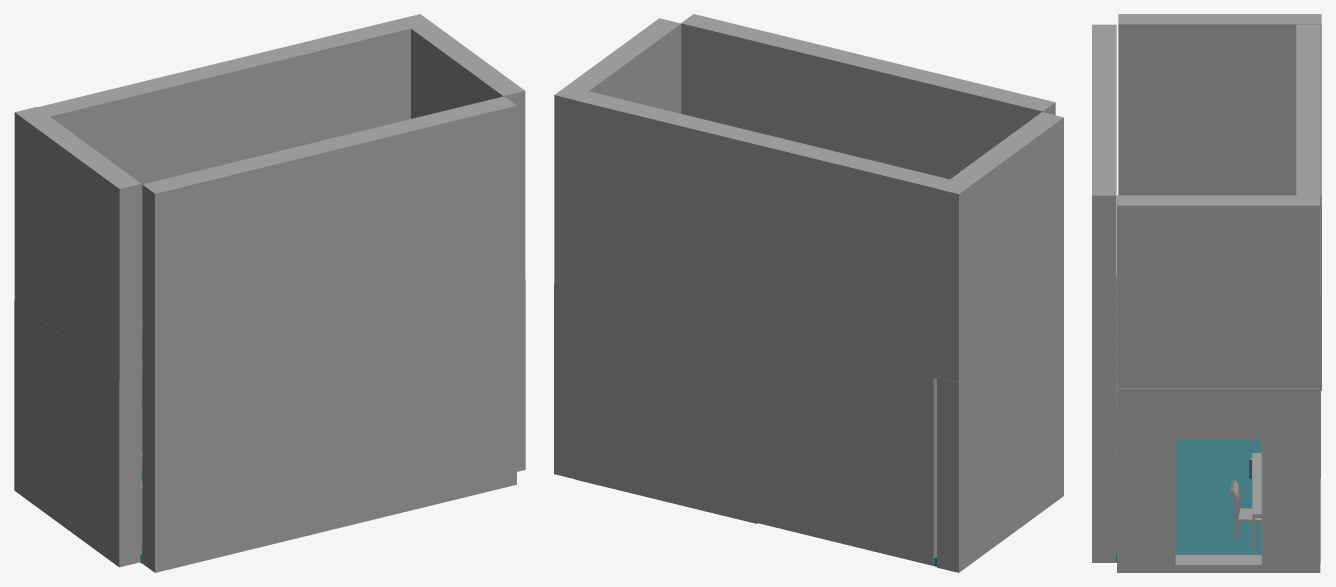
File: OptionsScene.fbx
3 renders of one model, left to right at view 1: azimuth 30°, elevation 25°; view 2: azimuth 150°, elevation 25°; view 3: azimuth 270°, elevation 25°, orthographic. The views are drawn at different scales.
Visible parts, largest first — view 1: pasted__Pared13, pasted__Pared1, pasted__Pared14, pasted__Pared, pasted__Pared15, pasted__Pared5, pasted__Pared10, pasted__Pared9, pasted__Pared12, pasted__Puerta; view 2: pasted__Pared10, pasted__Pared9, pasted__Pared4, pasted__Pared7, pasted__Pared15, pasted__Pared5, pasted__Pared14, pasted__Pared13, pasted__Pared12, pasted__Puerta; view 3: pasted__Pared12, pasted__Pared15, pasted__Puerta, pasted__Pared14, pasted__Suelo, pasted__Pared, pasted__Suelo1, pasted__Pared10, pasted__Pared9, pasted__Pared13, Mesa1, Silla1.
Part boxes in pixels (left/top/right/bottom): pasted__Pared13: left=142, top=140, right=336, bottom=383; pasted__Pared1: left=142, top=339, right=336, bottom=572; pasted__Pared14: left=323, top=96, right=516, bottom=339; pasted__Pared: left=335, top=296, right=516, bottom=528; pasted__Pared15: left=14, top=107, right=141, bottom=379; pasted__Pared5: left=14, top=300, right=141, bottom=567; pasted__Pared10: left=218, top=19, right=410, bottom=162; pasted__Pared9: left=37, top=63, right=230, bottom=284; pasted__Pared12: left=399, top=14, right=525, bottom=282; pasted__Puerta: left=517, top=279, right=525, bottom=471; pasted__Pared10: left=575, top=91, right=768, bottom=333; pasted__Pared9: left=755, top=135, right=949, bottom=378; pasted__Pared4: left=751, top=331, right=936, bottom=565; pasted__Pared7: left=575, top=289, right=757, bottom=523; pasted__Pared15: left=937, top=112, right=1063, bottom=382; pasted__Pared5: left=937, top=306, right=1063, bottom=572; pasted__Pared14: left=681, top=14, right=872, bottom=157; pasted__Pared13: left=861, top=58, right=1055, bottom=179; pasted__Pared12: left=554, top=18, right=681, bottom=288; pasted__Puerta: left=554, top=284, right=574, bottom=478; pasted__Pared12: left=1117, top=195, right=1320, bottom=388; pasted__Pared15: left=1118, top=14, right=1321, bottom=208; pasted__Puerta: left=1117, top=388, right=1320, bottom=572; pasted__Pared14: left=1092, top=109, right=1116, bottom=379; pasted__Suelo: left=1116, top=469, right=1261, bottom=562; pasted__Pared: left=1092, top=378, right=1116, bottom=562; pasted__Suelo1: left=1175, top=439, right=1261, bottom=468; pasted__Pared10: left=1296, top=110, right=1320, bottom=379; pasted__Pared9: left=1296, top=24, right=1320, bottom=110; pasted__Pared13: left=1092, top=24, right=1116, bottom=110; Mesa1: left=1252, top=453, right=1261, bottom=549; Silla1: left=1230, top=480, right=1261, bottom=539.
Size of the model in its own units: 50.33 by 44.98 by 25.52.
